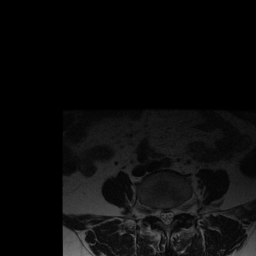CCS_normal: (164, 205, 169, 229)
LFS_normal: (175, 200, 181, 219)
LLS_normal: (169, 206, 175, 225)
RFS_normal: (151, 201, 158, 221)
RLS_normal: (158, 205, 164, 224)
